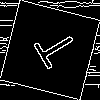T: (25, 25, 80, 75)
